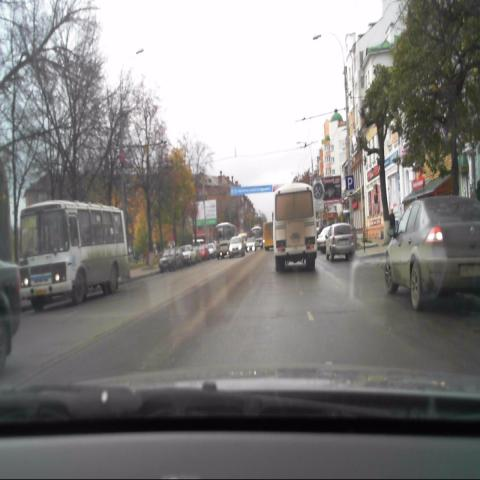6_4: (346, 175, 354, 190)
